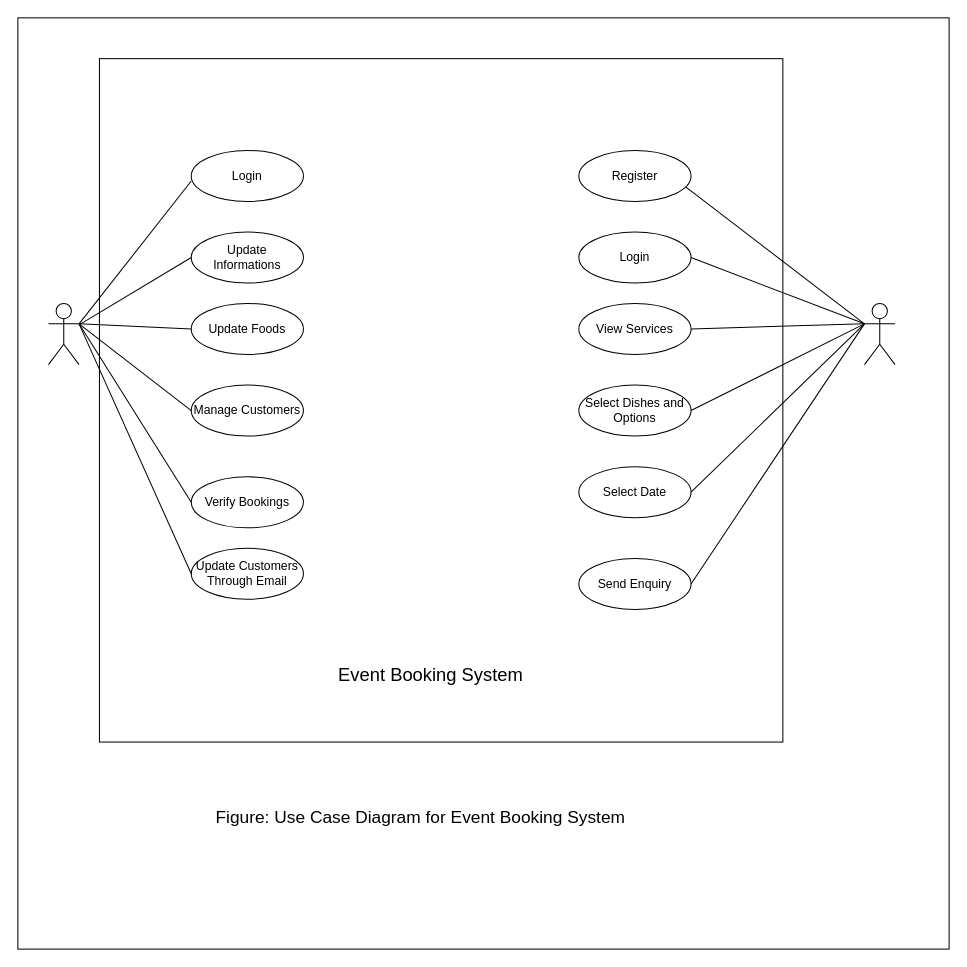
Image size: 967x967. Some labels were removed from this diagram. The box of each missing label's shape, as (x1, y1, x2, y2) in pixels:
Admin: (47, 302, 79, 365)
Customer: (863, 302, 895, 365)
